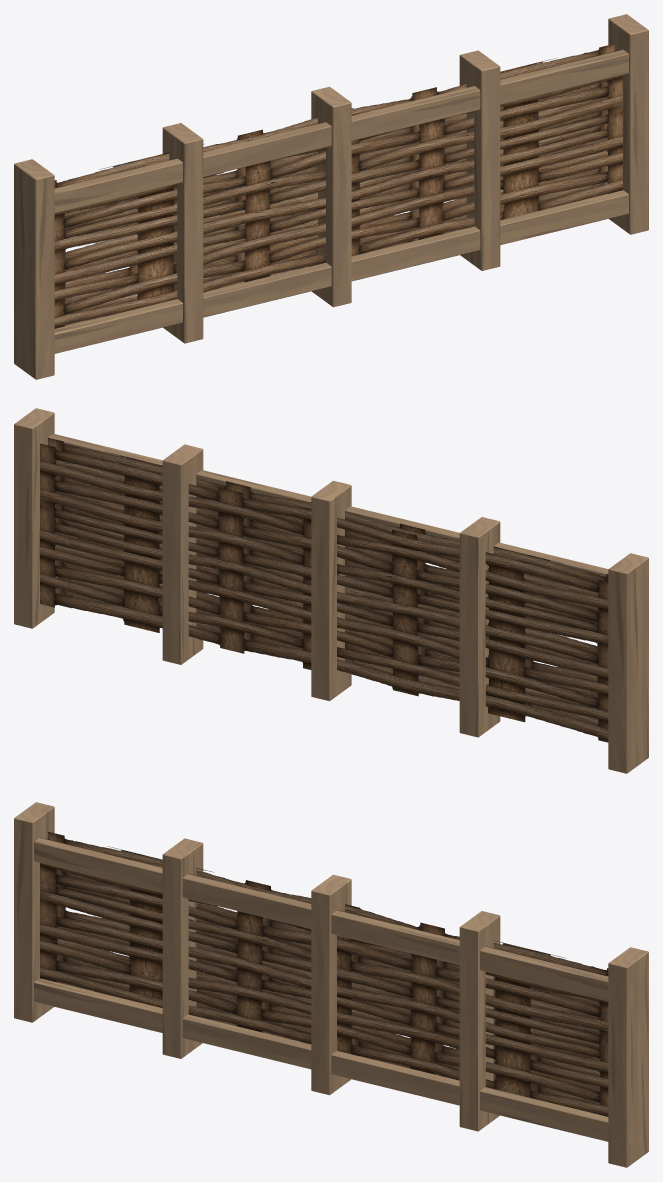
3 views of the same model, one above another, from view 1: azimuth 30°, elevation 25°; view 2: azimuth 150°, elevation 25°; view 3: azimuth 330°, elevation 25° (orthographic).
Parts seen in each view (by area): view 1: W12_Export; view 2: W12_Export; view 3: W12_Export.
Boxes of the visible parts, bbox=[...] form: W12_Export: bbox=[14, 14, 648, 379]; W12_Export: bbox=[14, 408, 648, 773]; W12_Export: bbox=[14, 802, 648, 1167].
Bounding box in the file's own units: 4 × 1.25 × 0.25.
